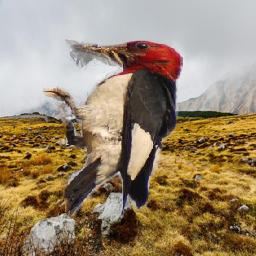Woodpecker: (43, 40, 183, 219)
